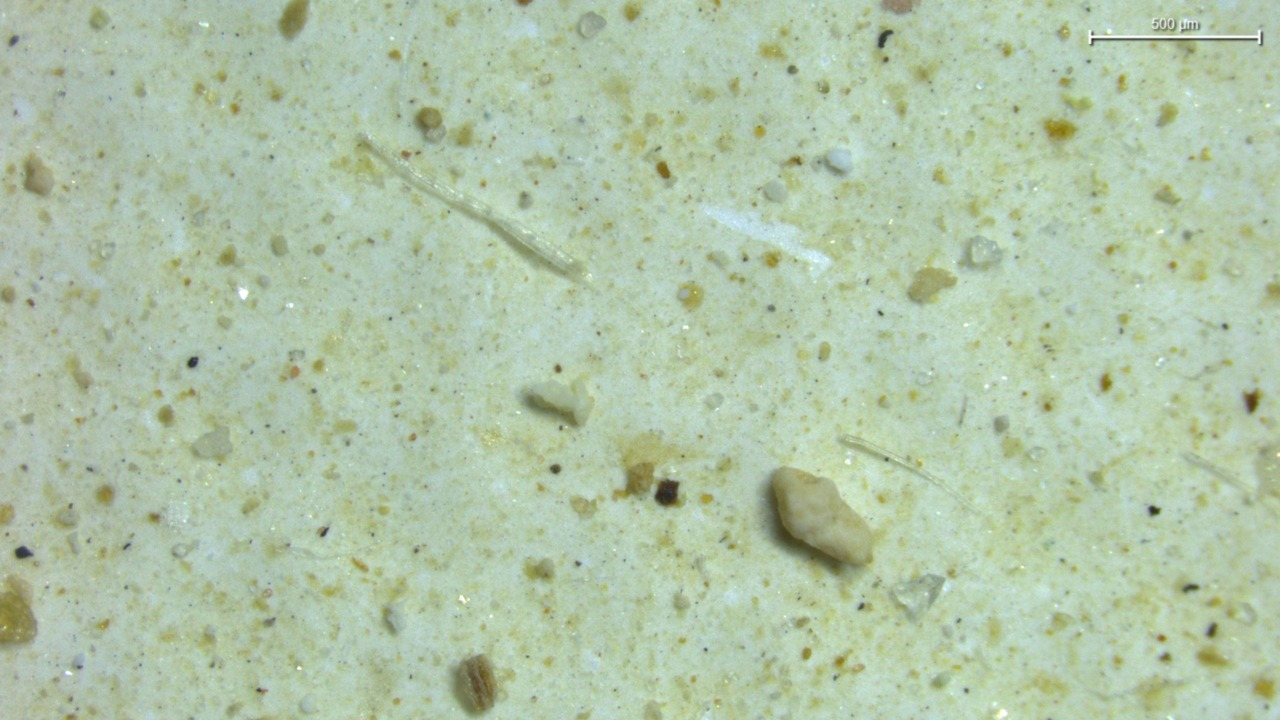microplastic_fragment: (771, 467, 873, 565), (524, 380, 595, 425), (892, 574, 946, 621), (193, 427, 232, 458), (25, 157, 54, 195), (969, 235, 1003, 266), (416, 107, 445, 143), (825, 147, 853, 174), (577, 12, 606, 38), (762, 180, 788, 203)
